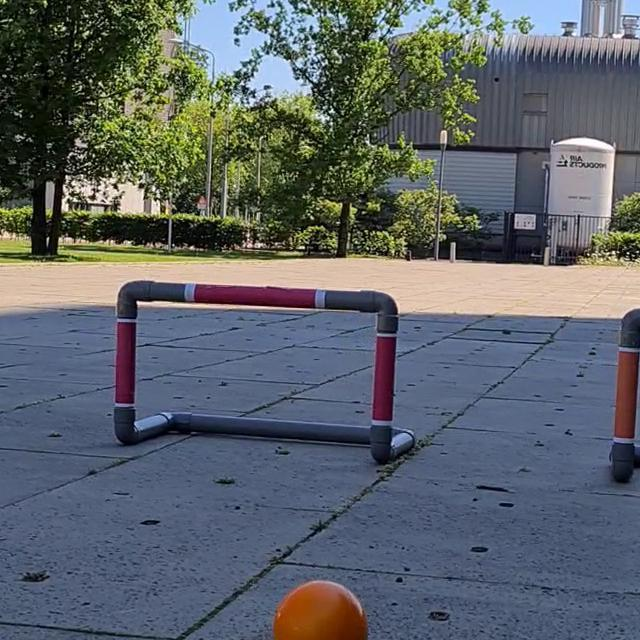ball: (268, 579, 372, 640)
